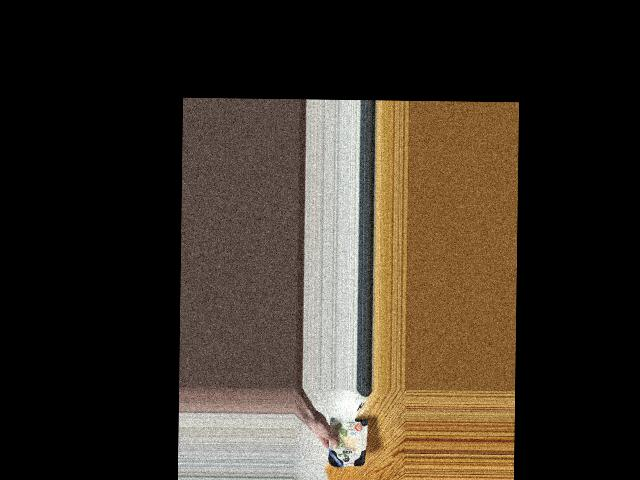cheese: (326, 406, 367, 478)
